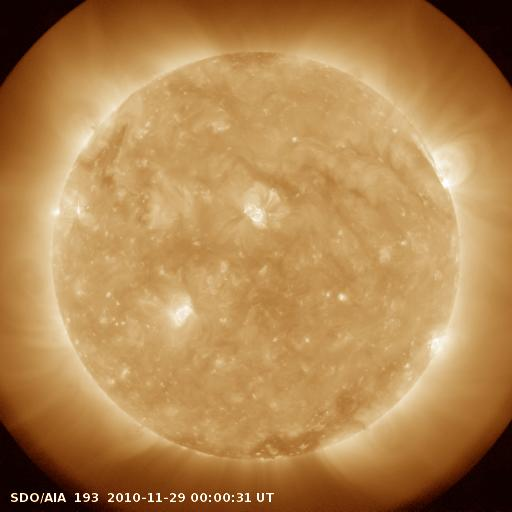coronal_hole: (250, 426, 332, 461)
